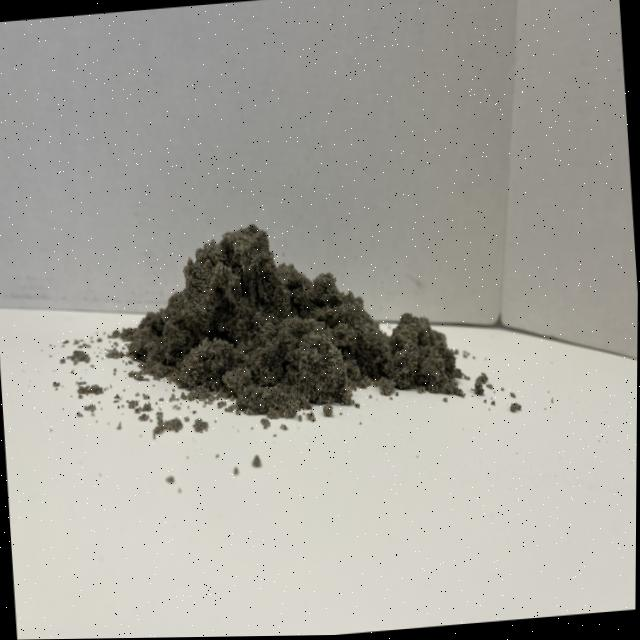sand: (128, 191, 445, 432)
